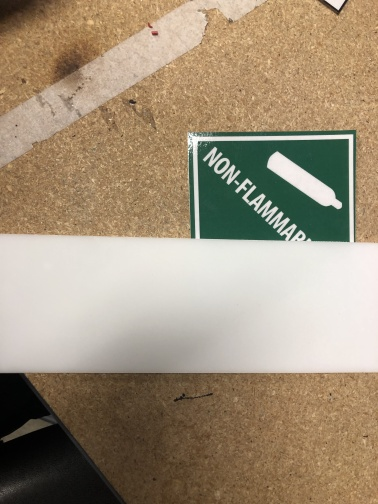NonFlammableGas: (188, 131, 356, 243)
